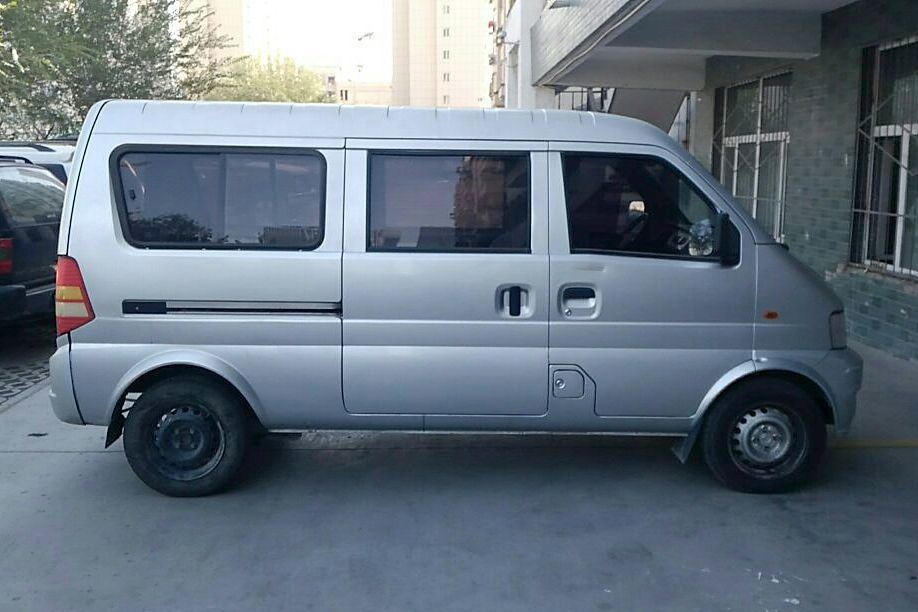minibus: (52, 91, 866, 501)
